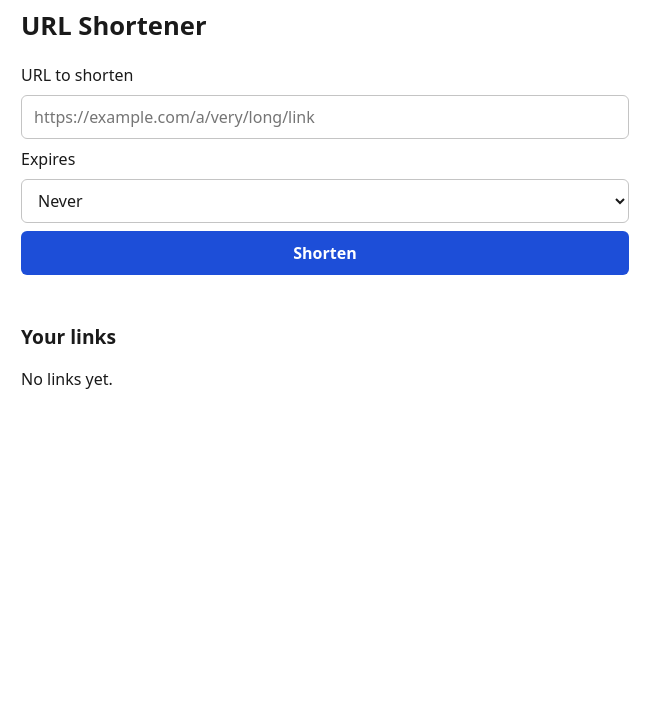
App › copies and announces Copied!
This screenshot has width=651, height=721.
Type "https://example.com/long" into the field labelled "URL to shorten" at (325, 117), box 21,95 -> 629,139
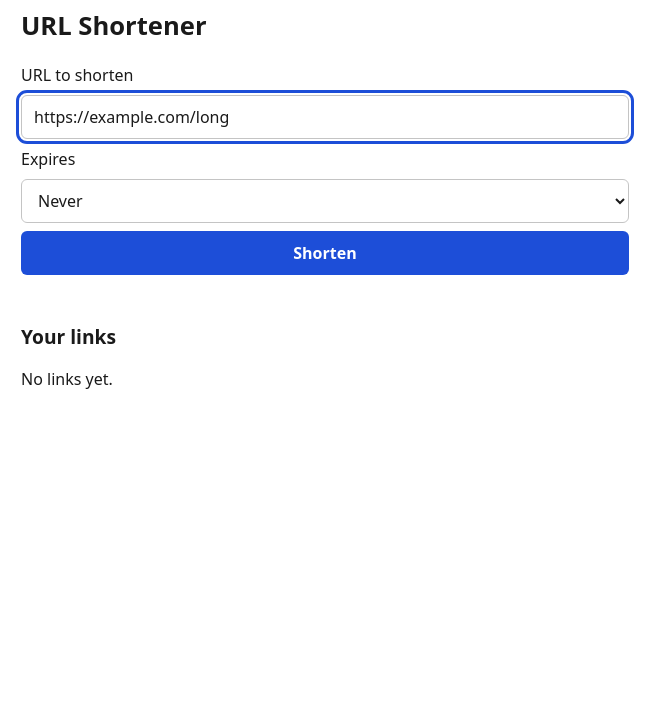
Click the button "Shorten" at (325, 253), box 21,231 -> 629,275
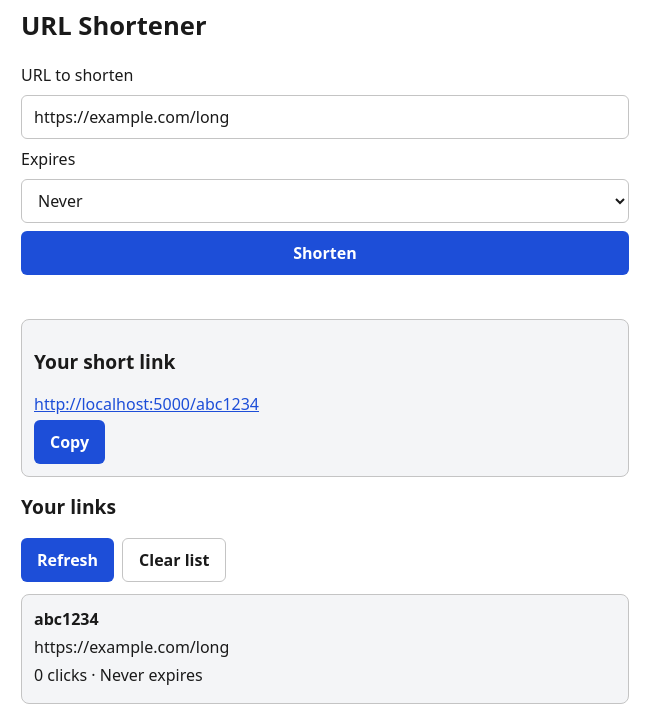
Now the link "http://localhost:5000/abc1234" is shown, box 34,393 -> 259,415
Click the button "Copy" at (70, 442), box 34,420 -> 105,464
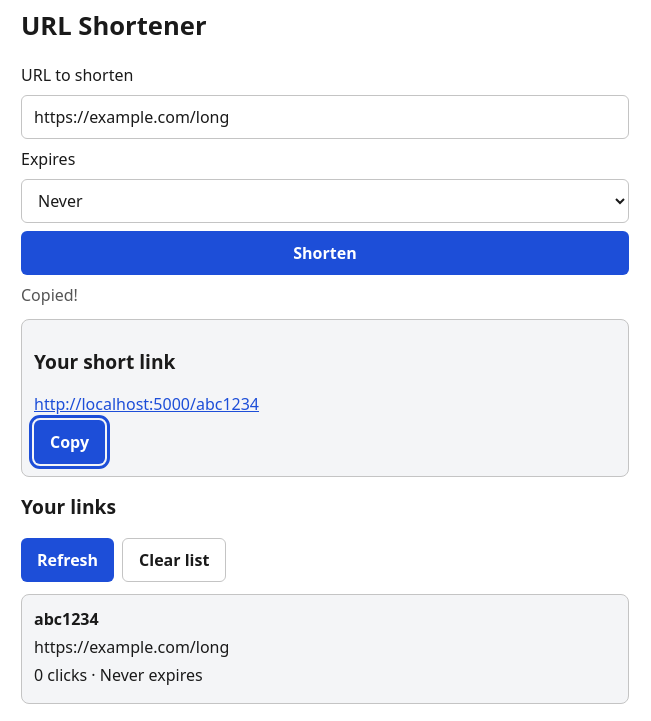
Now the message reads "Copied!", box 21,284 -> 78,306
